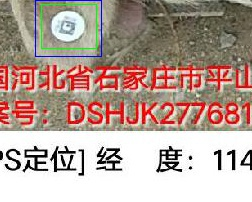text: (41, 4, 96, 48)
